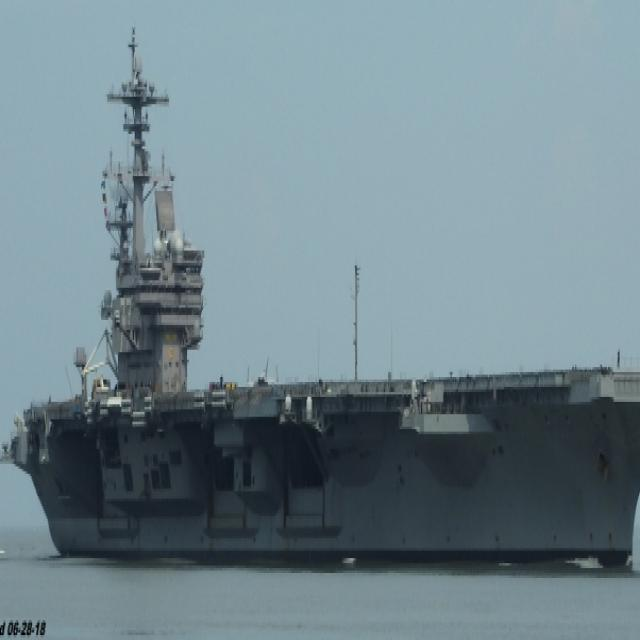Portanaves: (1, 28, 640, 584)
